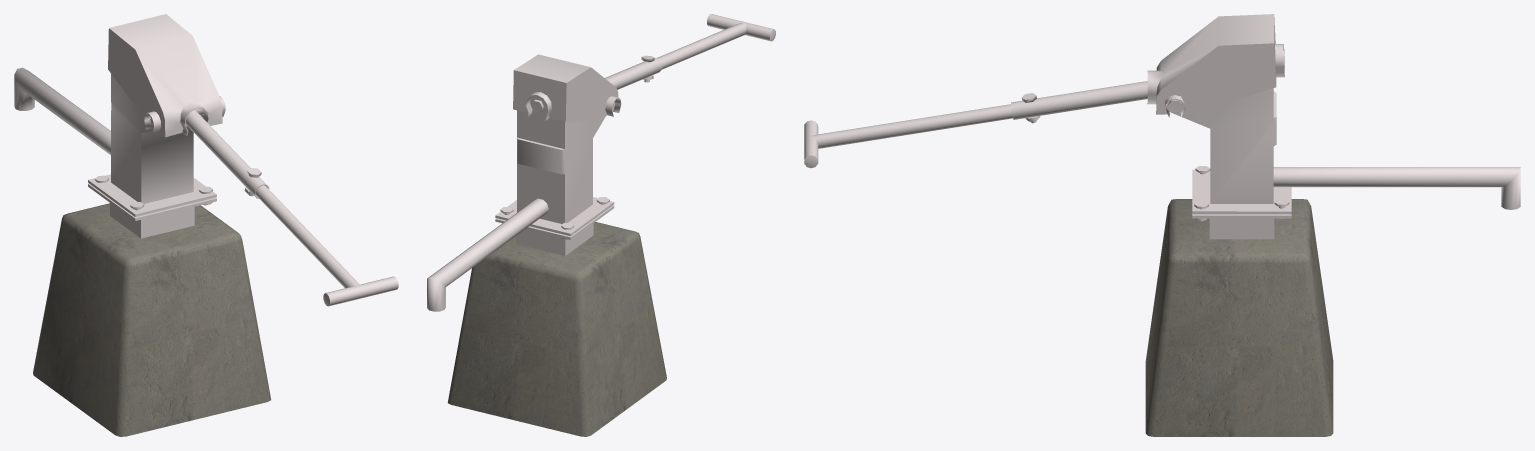
Rendered from bomba_mano.glb.
The picture shows the model from 3 angles, left to right: view 1: azimuth 30°, elevation 25°; view 2: azimuth 150°, elevation 25°; view 3: azimuth 270°, elevation 25°; orthographic projection. The views are drawn at different scales.
Visible parts, largest first — view 1: Plane_Base_0, Nulka_metalic_0; view 2: Plane_Base_0, Nulka_metalic_0; view 3: Plane_Base_0, Nulka_metalic_0.
Boxes of the visible parts, <box> form: Plane_Base_0: <box>33,203,271,436</box>; Nulka_metalic_0: <box>14,14,398,306</box>; Plane_Base_0: <box>447,222,666,436</box>; Nulka_metalic_0: <box>427,14,775,311</box>; Plane_Base_0: <box>1145,199,1333,436</box>; Nulka_metalic_0: <box>804,14,1520,239</box>.
Bounding box in the file's own units: 216 × 470 × 826.
2 materials, 1 textured.
